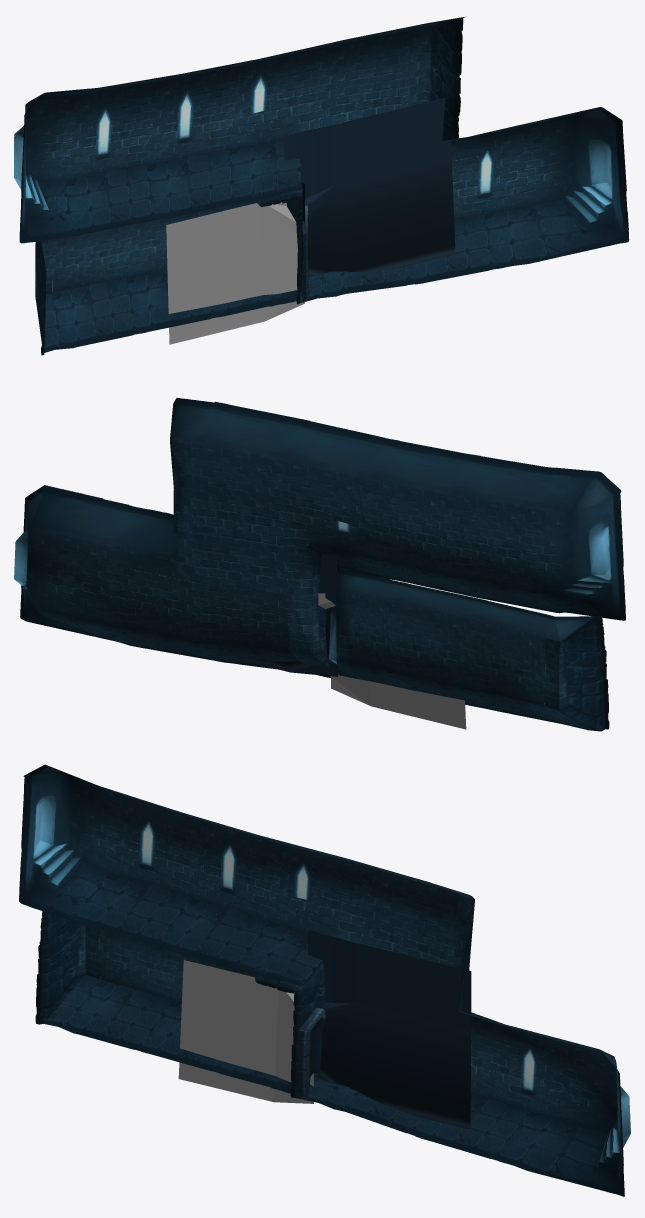
File: Dark Forest Crypt Interior C.FBX
The picture shows the model from 3 angles, top to bottom: view 1: azimuth 30°, elevation 25°; view 2: azimuth 150°, elevation 25°; view 3: azimuth 330°, elevation 25°; orthographic projection.
Visible parts, largest first — view 1: Crypt interior C, Mask (×2), Crypt interior C Room, Door; view 2: Crypt interior C, Crypt interior C Room, Mask (×2); view 3: Crypt interior C, Mask (×2), Crypt interior C Room, Door.
Part boxes in pixels (x1=…): Crypt interior C: x1=14, y1=16, x2=629, y2=304; Mask (×2): x1=166, y1=97, x2=455, y2=344; Crypt interior C Room: x1=35, y1=183, x2=305, y2=355; Door: x1=302, y1=205, x2=308, y2=302; Crypt interior C: x1=14, y1=397, x2=625, y2=677; Crypt interior C Room: x1=329, y1=566, x2=609, y2=731; Mask (×2): x1=173, y1=490, x2=466, y2=729; Crypt interior C: x1=19, y1=764, x2=630, y2=1196; Mask (×2): x1=178, y1=929, x2=471, y2=1129; Crypt interior C Room: x1=35, y1=911, x2=291, y2=1093; Door: x1=298, y1=1008, x2=325, y2=1099.
Bounding box in the file's own units: 2915 × 236 × 1355.
